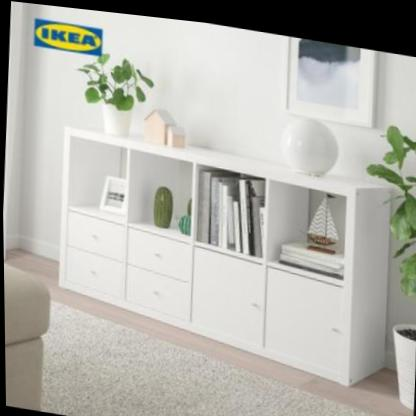Shelf: (49, 118, 401, 392)
